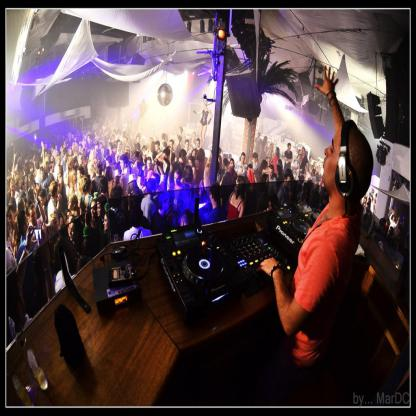face: (323, 128, 348, 192), (70, 225, 78, 242), (24, 216, 31, 233), (8, 211, 15, 227), (31, 211, 38, 226), (104, 216, 110, 232), (8, 217, 12, 240), (165, 197, 171, 212), (92, 205, 98, 220), (97, 203, 102, 219), (175, 174, 181, 185), (269, 202, 275, 213), (118, 179, 124, 190), (68, 200, 74, 210), (121, 159, 126, 170), (85, 157, 90, 167), (23, 181, 28, 191), (40, 198, 46, 206), (148, 162, 153, 171), (287, 177, 291, 188), (106, 161, 112, 168), (137, 155, 141, 164), (270, 169, 274, 178), (51, 165, 55, 174), (90, 182, 94, 191), (111, 171, 115, 179), (231, 162, 235, 170), (242, 156, 246, 164), (41, 172, 45, 180), (71, 161, 75, 169), (77, 172, 81, 180), (189, 161, 194, 167), (164, 155, 168, 162), (140, 176, 144, 183), (58, 158, 62, 165), (74, 174, 78, 181), (253, 158, 258, 163), (144, 150, 147, 158), (192, 151, 196, 157), (183, 155, 186, 163), (96, 146, 99, 153), (125, 139, 128, 146), (156, 144, 159, 151), (177, 137, 180, 144), (187, 143, 190, 150), (70, 150, 73, 156), (80, 148, 83, 154), (119, 143, 122, 149), (138, 138, 141, 144), (171, 143, 174, 149), (197, 143, 200, 149), (289, 146, 292, 152), (303, 150, 306, 156), (32, 167, 35, 173), (271, 146, 274, 152), (196, 161, 199, 167), (52, 159, 55, 164), (315, 183, 318, 187), (67, 151, 69, 157), (268, 157, 271, 161), (88, 138, 90, 143), (258, 134, 260, 138), (320, 169, 322, 173), (311, 158, 313, 162), (205, 104, 207, 107), (313, 171, 314, 175), (316, 164, 317, 166)
